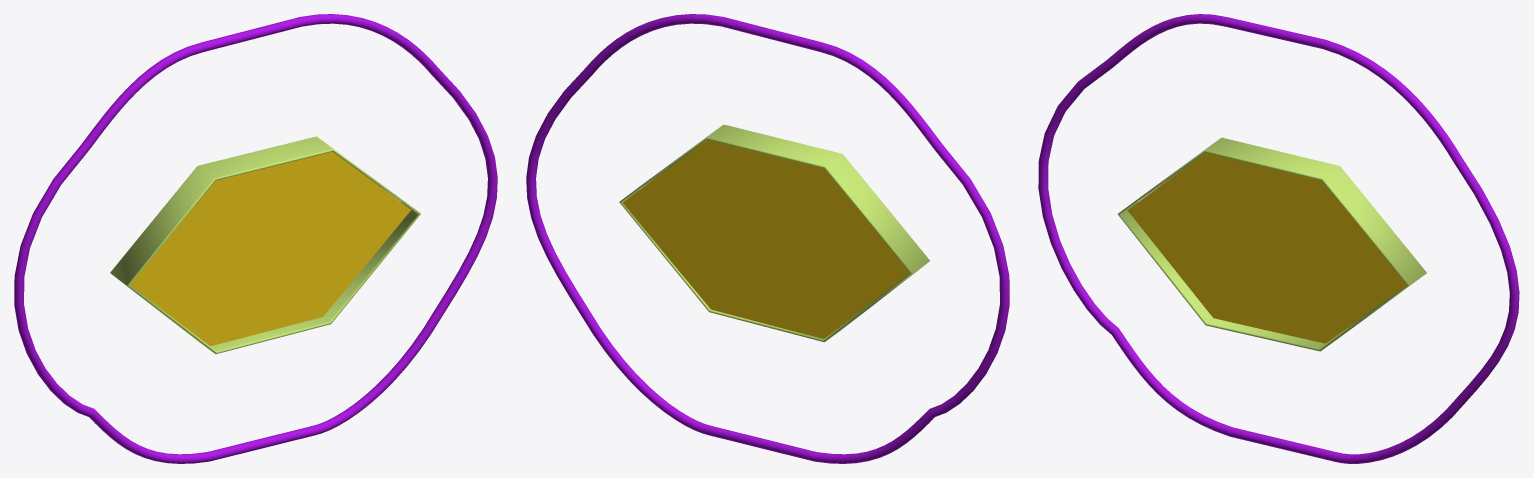
Rendered from leber-lgp-109p.glb.
3 renders of one model, left to right at view 1: azimuth 30°, elevation 25°; view 2: azimuth 150°, elevation 25°; view 3: azimuth 330°, elevation 25°, orthographic.
Parts seen in each view (by area): view 1: Line.003, _outline.018, Line.002; view 2: Line.003, _outline.018, Line.002; view 3: Line.003, _outline.018, Line.002.
Boxes of the visible parts, bbox=[...] form: Line.003: bbox=[130, 151, 410, 346]; _outline.018: bbox=[14, 14, 497, 463]; Line.002: bbox=[110, 136, 420, 354]; Line.003: bbox=[623, 140, 909, 338]; _outline.018: bbox=[526, 14, 1009, 463]; Line.002: bbox=[619, 124, 929, 342]; Line.003: bbox=[1127, 153, 1406, 343]; _outline.018: bbox=[1038, 14, 1519, 463]; Line.002: bbox=[1118, 137, 1426, 351].
Bounding box in the file's own units: 3.39 × 2.83 × 0.2393.
